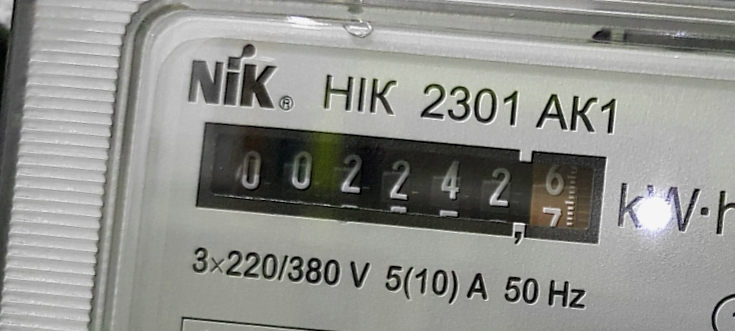0: (286, 147, 316, 192), (237, 146, 264, 193), (338, 151, 366, 196)
2: (485, 164, 514, 210), (386, 156, 414, 203)
4: (436, 156, 464, 202)
6: (541, 162, 568, 197)
7: (538, 204, 563, 229)
screen: (183, 99, 625, 270)
